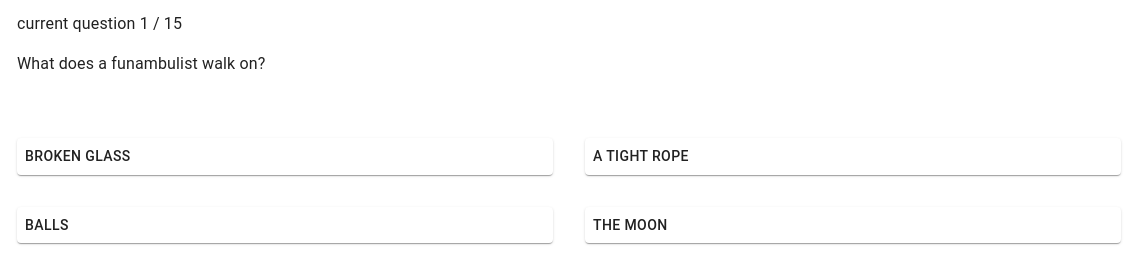
Test: quiz tower › should save quiz and show try again message when selecting the wrong answer
The image size is (1139, 262).
Click the button "Balls" at (47, 224), box [17,206,553,243]
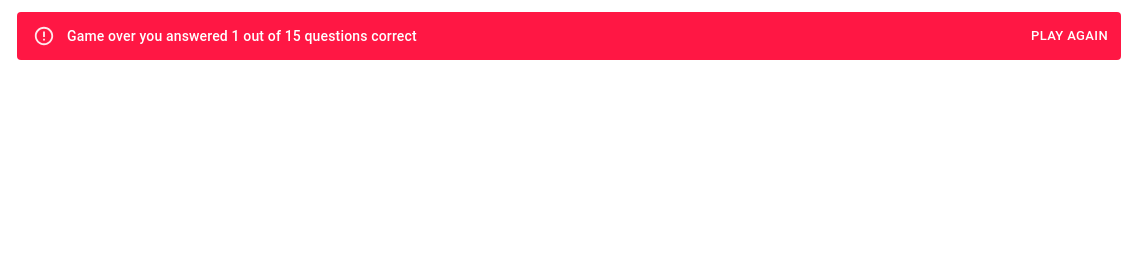
expect the message shows "Game over you answered 1 out of 15 questions correct": met, box [67,28,417,44]
expect the text "1 / 15" is gone: met
